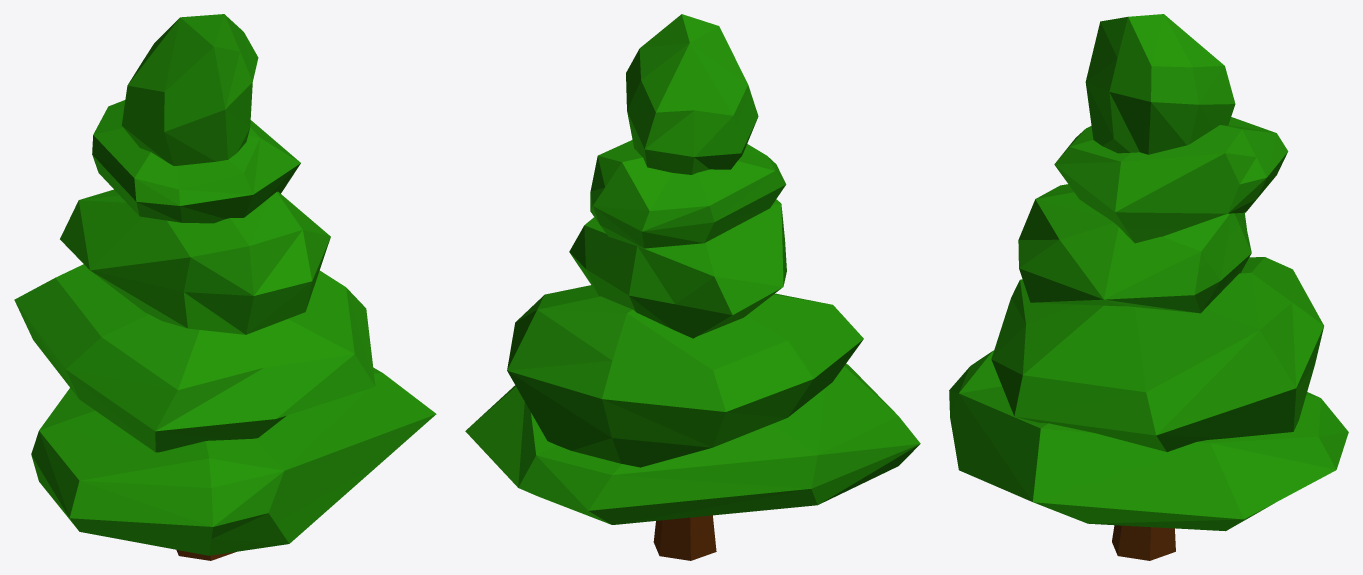
Rendered from Tree_temp_climate_017.FBX.
3 renders of one model, left to right at view 1: azimuth 30°, elevation 25°; view 2: azimuth 150°, elevation 25°; view 3: azimuth 270°, elevation 25°, orthographic. The views are drawn at different scales.
Parts seen in each view (by area): view 1: Tree_temp_climate_017; view 2: Tree_temp_climate_017; view 3: Tree_temp_climate_017.
Part boxes in pixels (x1=…): Tree_temp_climate_017: x1=14, y1=14, x2=436, y2=560; Tree_temp_climate_017: x1=465, y1=14, x2=920, y2=560; Tree_temp_climate_017: x1=949, y1=14, x2=1348, y2=560.
Bounding box in the file's own units: 315 × 443 × 300.
